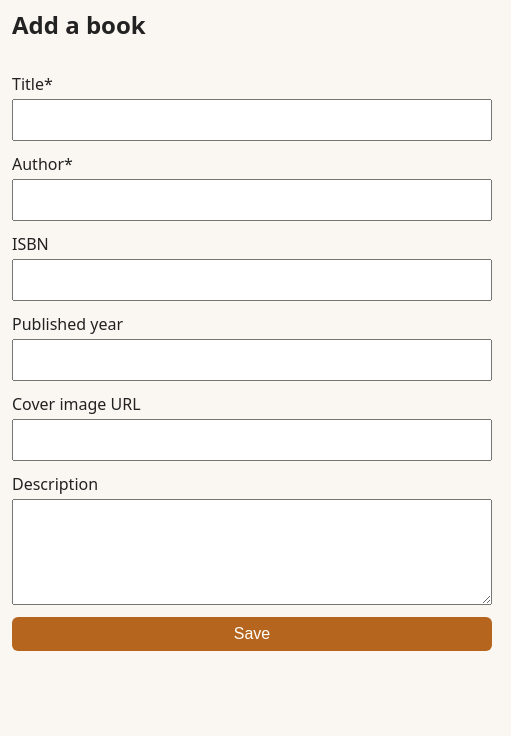
Test case: add book › shows the server's validation error
The image size is (511, 736).
In the field labelled "Title*": (252, 120) [12,99,492,141], type "x"
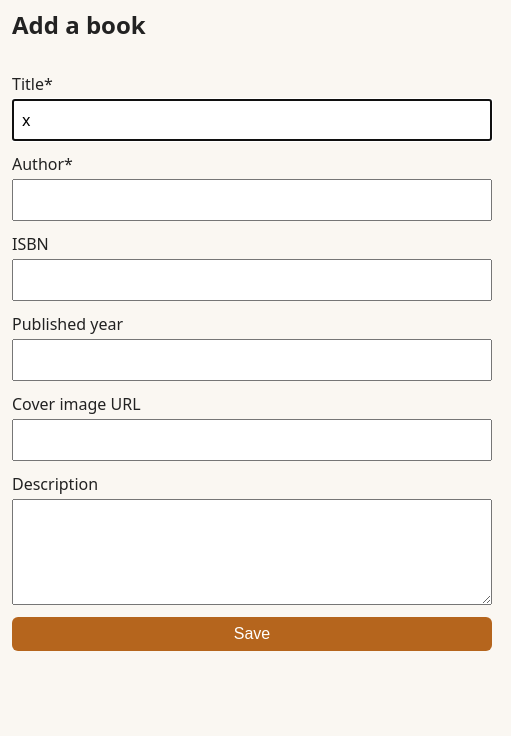
In the field labelled "Author*": (252, 200) [12,179,492,221], type "y"
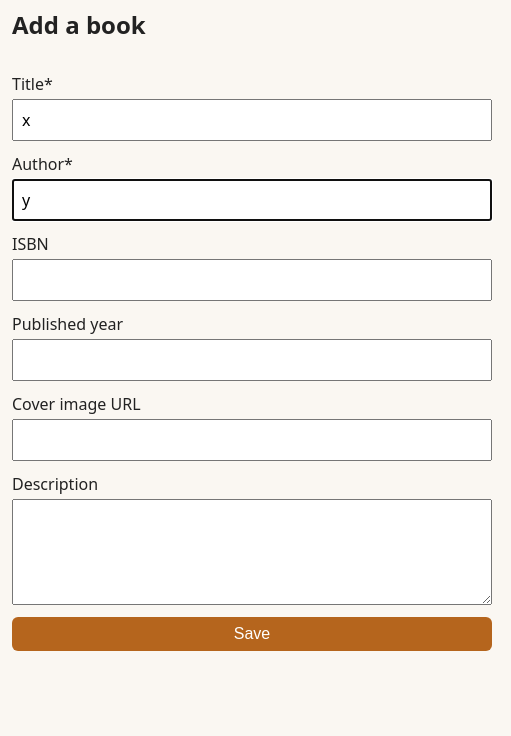
Click the button "Save": click(252, 634) [12,617,492,651]
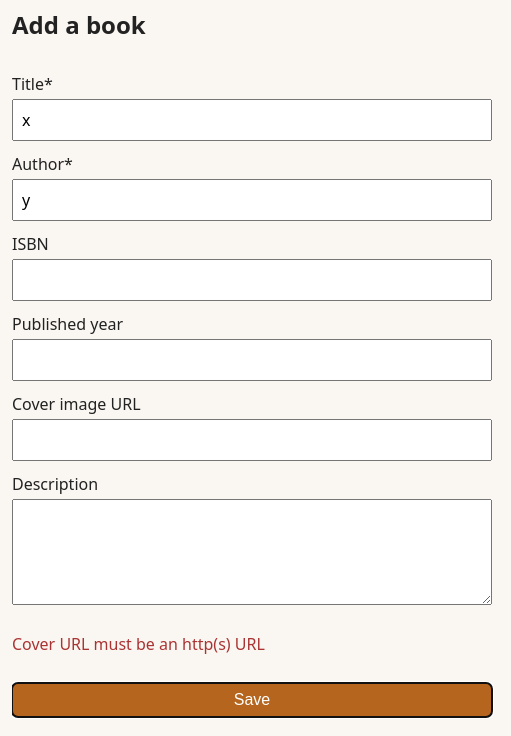
Expected: the message reads "Cover URL must be an http(s) URL", [12,633,265,655]
